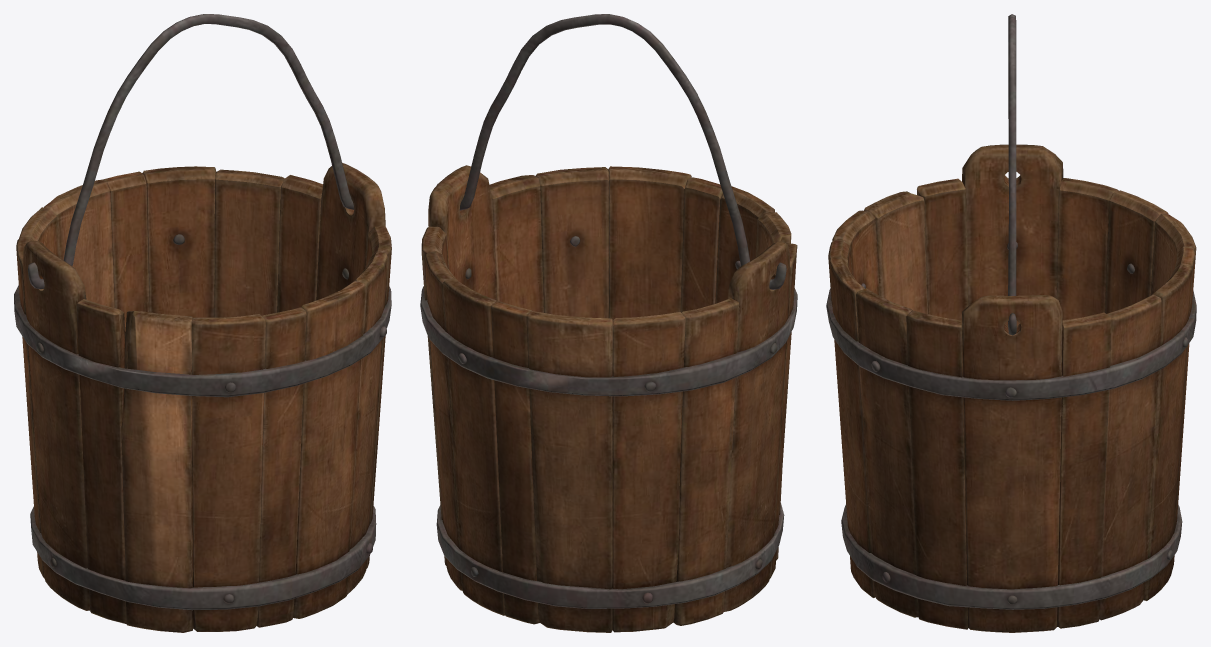
The model's file is wooden_bucket_01.glb.
The picture shows the model from 3 angles, left to right: view 1: azimuth 30°, elevation 25°; view 2: azimuth 150°, elevation 25°; view 3: azimuth 270°, elevation 25°; orthographic projection.
Parts seen in each view (by area): view 1: wooden_bucket_01, wooden_bucket_01_handle; view 2: wooden_bucket_01, wooden_bucket_01_handle; view 3: wooden_bucket_01, wooden_bucket_01_handle.
Part boxes in pixels (bbox=[...]): wooden_bucket_01: bbox=[14, 162, 391, 632]; wooden_bucket_01_handle: bbox=[27, 14, 354, 289]; wooden_bucket_01: bbox=[420, 165, 797, 632]; wooden_bucket_01_handle: bbox=[437, 14, 786, 289]; wooden_bucket_01: bbox=[826, 144, 1196, 632]; wooden_bucket_01_handle: bbox=[1008, 14, 1016, 335].
Size of the model in its own units: 0.367 by 0.5499 by 0.3422.
1 material, 1 textured.
